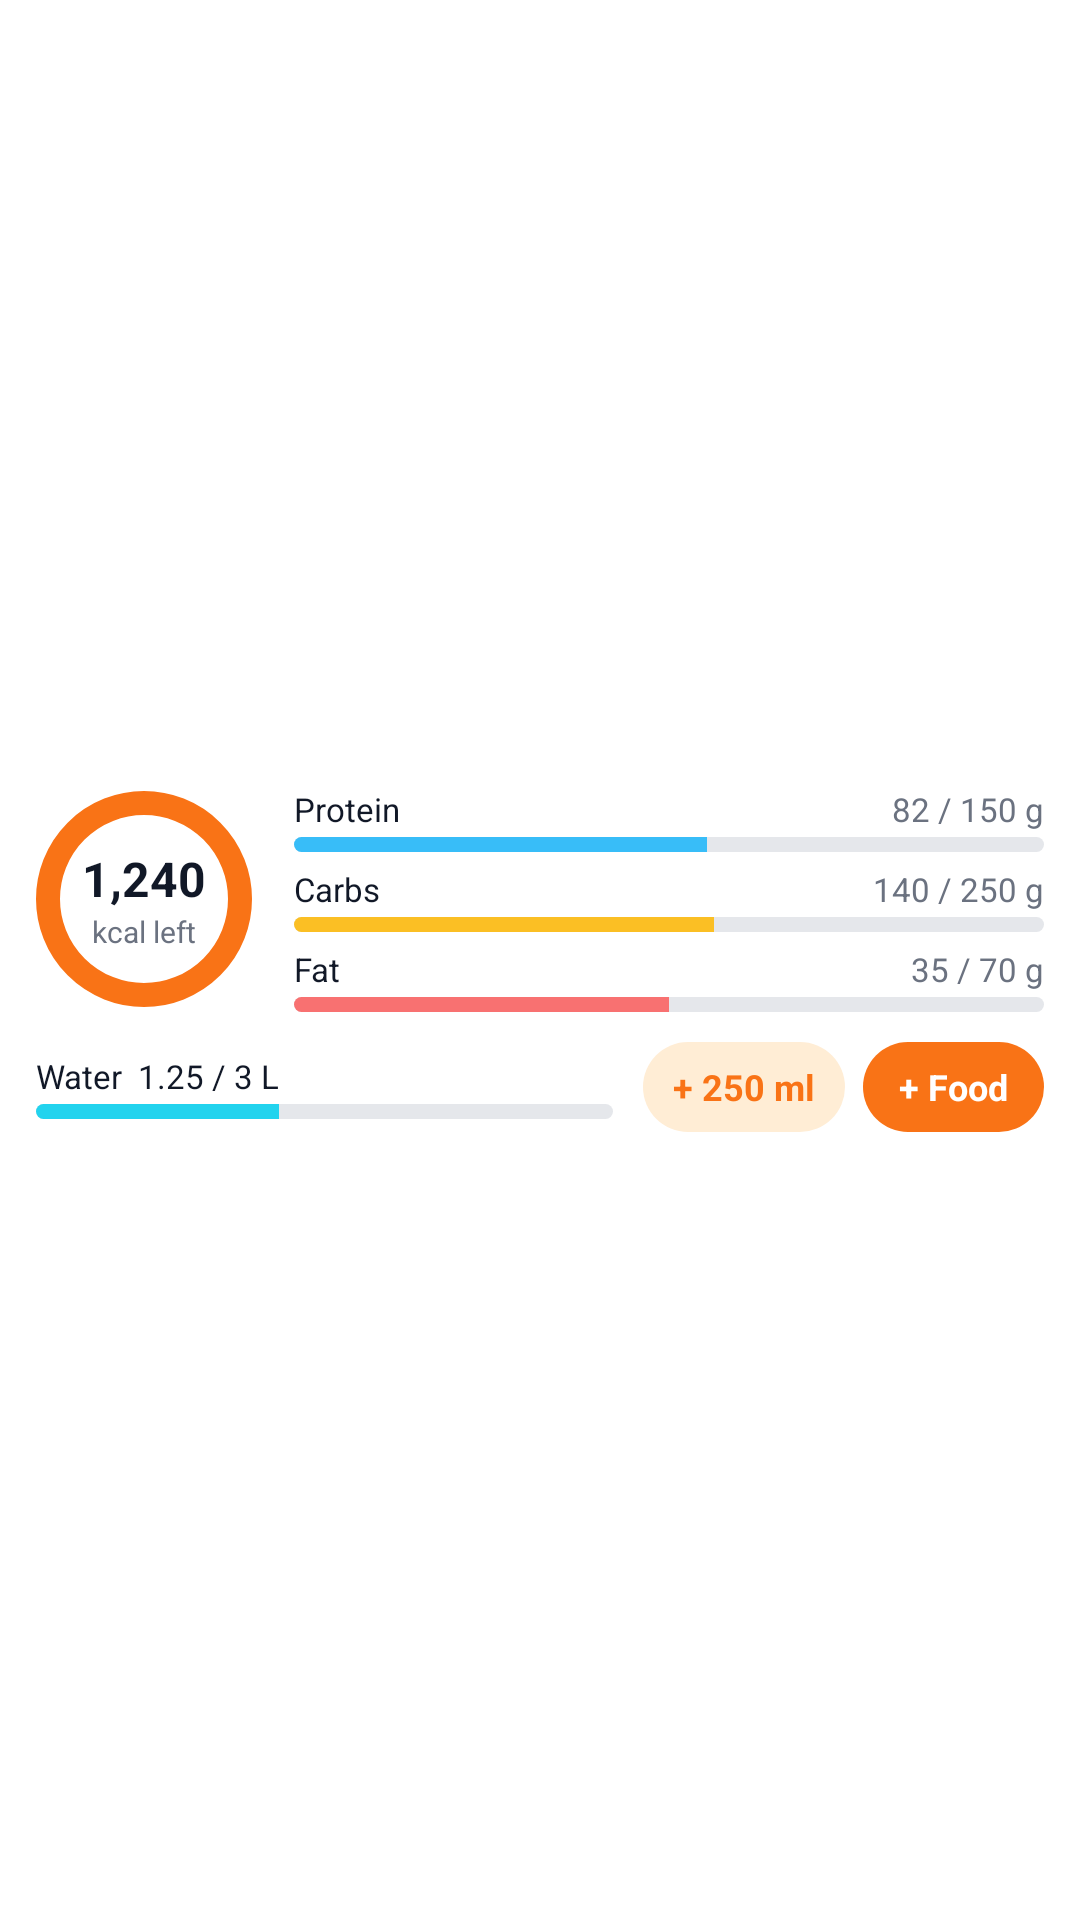

Where to tap for icons on this 1080px x 1920px app screen, as (x=x, y=y):
widget ring: (x=144, y=899)
